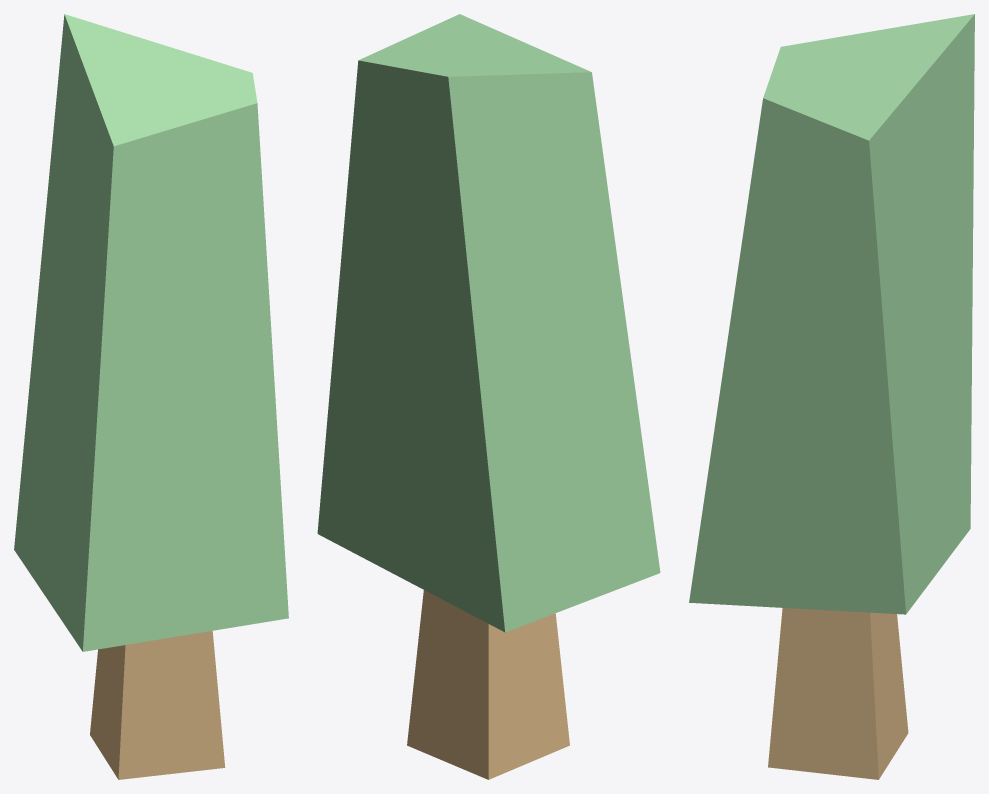
The model's file is tree1_75deg.fbx.
3 renders of one model, left to right at view 1: azimuth 30°, elevation 25°; view 2: azimuth 150°, elevation 25°; view 3: azimuth 270°, elevation 25°, orthographic. The views are drawn at different scales.
Parts seen in each view (by area): view 1: Cube.001, Cube; view 2: Cube.001, Cube; view 3: Cube.001, Cube.
Part boxes in pixels (x1=…): Cube.001: x1=14, y1=14, x2=288, y2=651; Cube: x1=90, y1=631, x2=225, y2=779; Cube.001: x1=317, y1=14, x2=660, y2=632; Cube: x1=407, y1=590, x2=569, y2=779; Cube.001: x1=689, y1=14, x2=974, y2=614; Cube: x1=768, y1=608, x2=908, y2=779.
Bounding box in the file's own units: 34.89 × 92.42 × 33.15.
